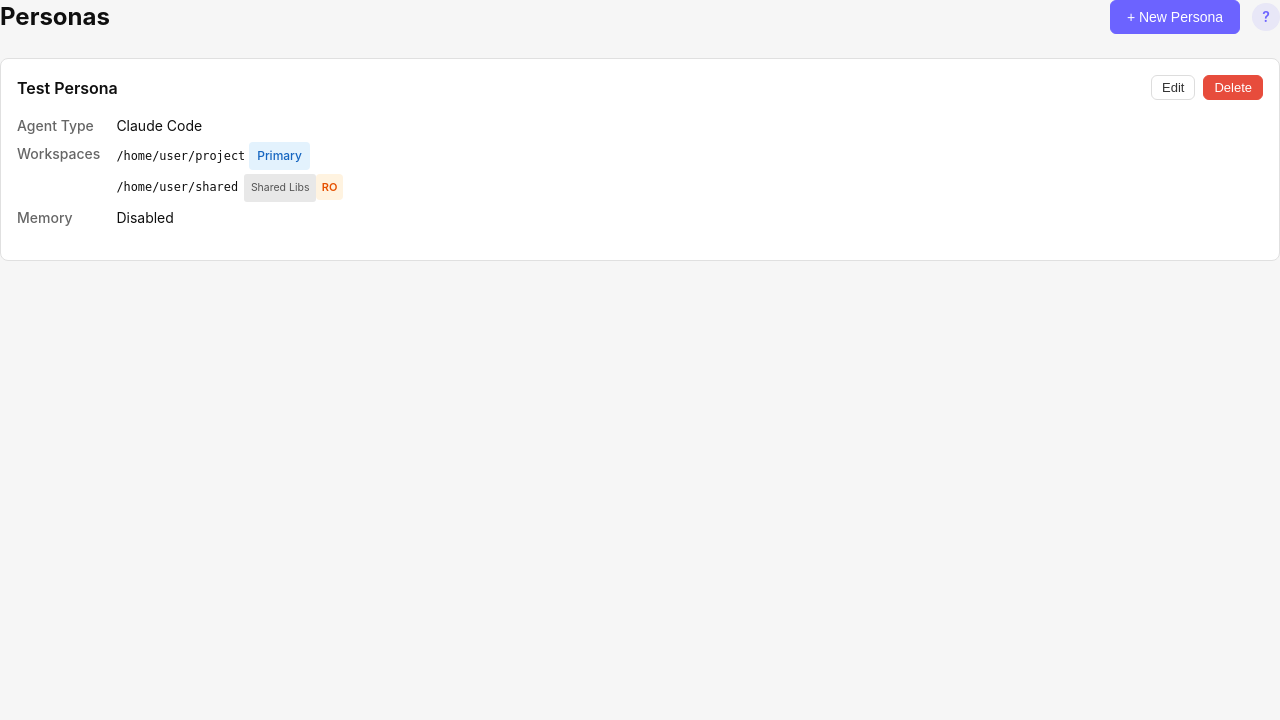
Scenario: PersonasPage - Mirror Cleanup on Persona Deletion › shows simple delete dialog when persona has no managed repos
The width and height of the screenshot is (1280, 720).
Expected: the button "+ New Persona" is shown, [1110,0,1240,34]
Click the button with aria-label "Delete Test Persona".
click(1233, 88)  # box [1203,75,1263,100]
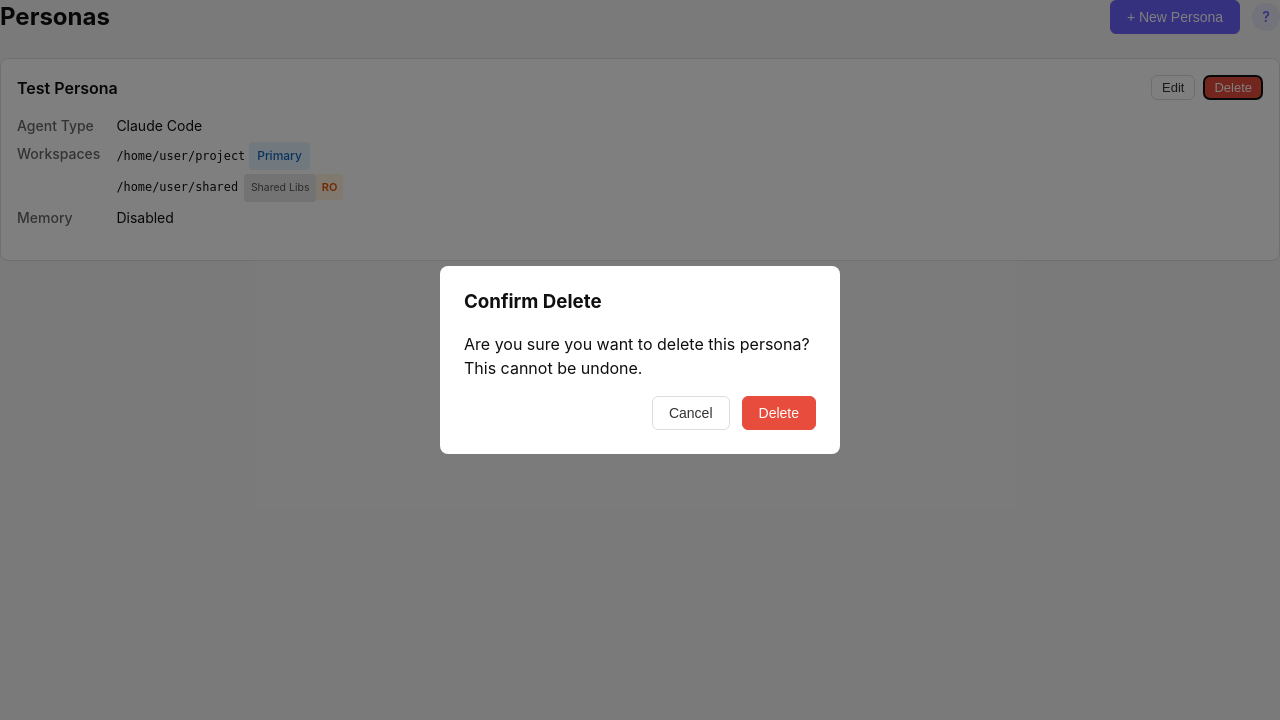
Expected: the text "Are you sure you want to delete this persona" is shown, [464,334,810,378]
